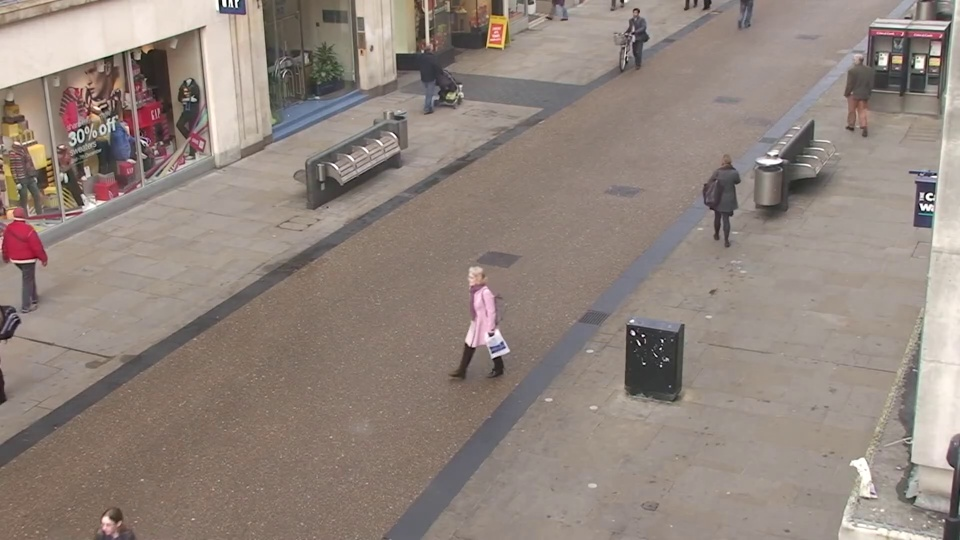pedestrian: (7, 201, 64, 317), (442, 263, 487, 399), (706, 147, 742, 251), (836, 47, 870, 128), (421, 40, 448, 114), (624, 6, 647, 72)
